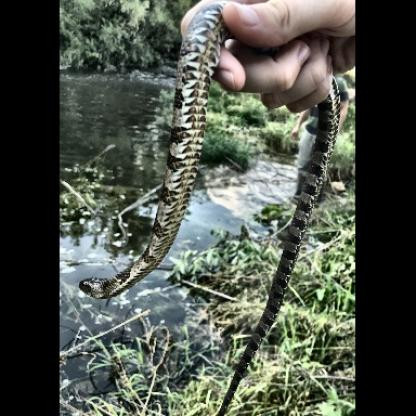Snake: (64, 9, 340, 398)
